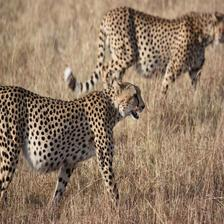Cheetah: (0, 80, 146, 218), (66, 6, 224, 102)
